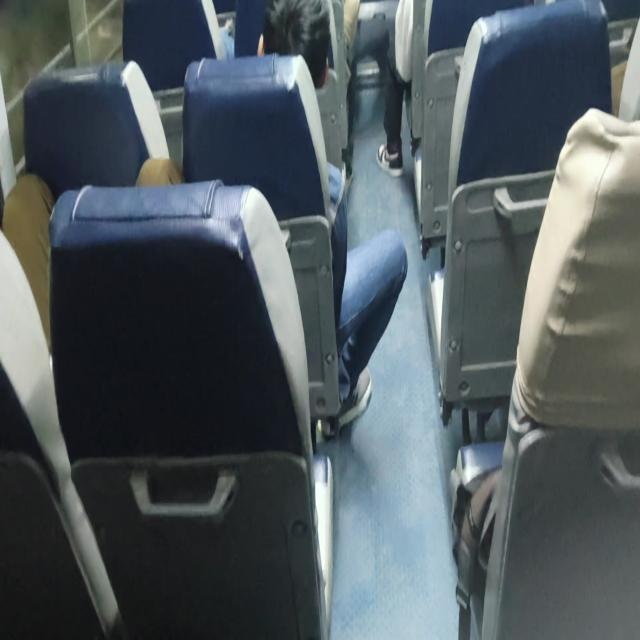person: (256, 0, 408, 431), (376, 0, 420, 178), (258, 0, 332, 90)
